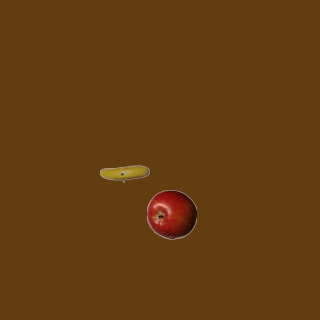Apple Braeburn: (146, 189, 196, 239)
Banana: (99, 148, 149, 198)
